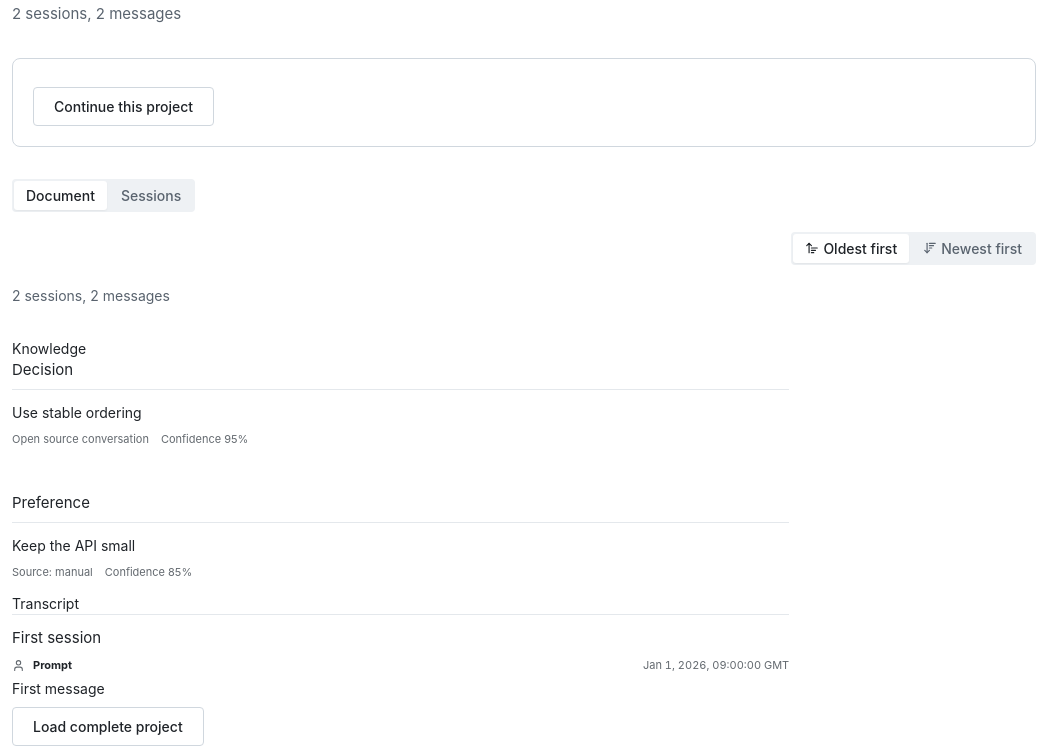
ProjectPage › discards an old document page after generated-content scope changes
(page scrolled)
Expected: the text "First message" is shown, [12,680,105,696]
Click the button "Load complete project". click: coordinates (108, 726)
box: [12,706,204,745]
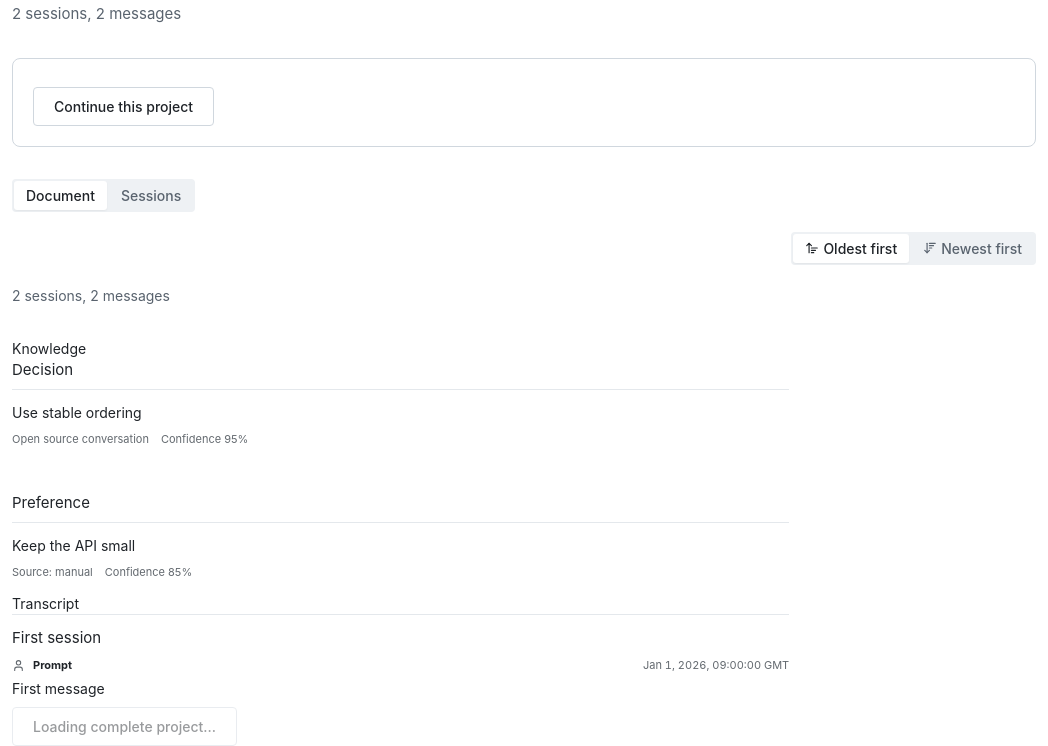
Click the tab "Sessions". click: coordinates (151, 195)
box: [109,180,193,210]
(page scrolled)
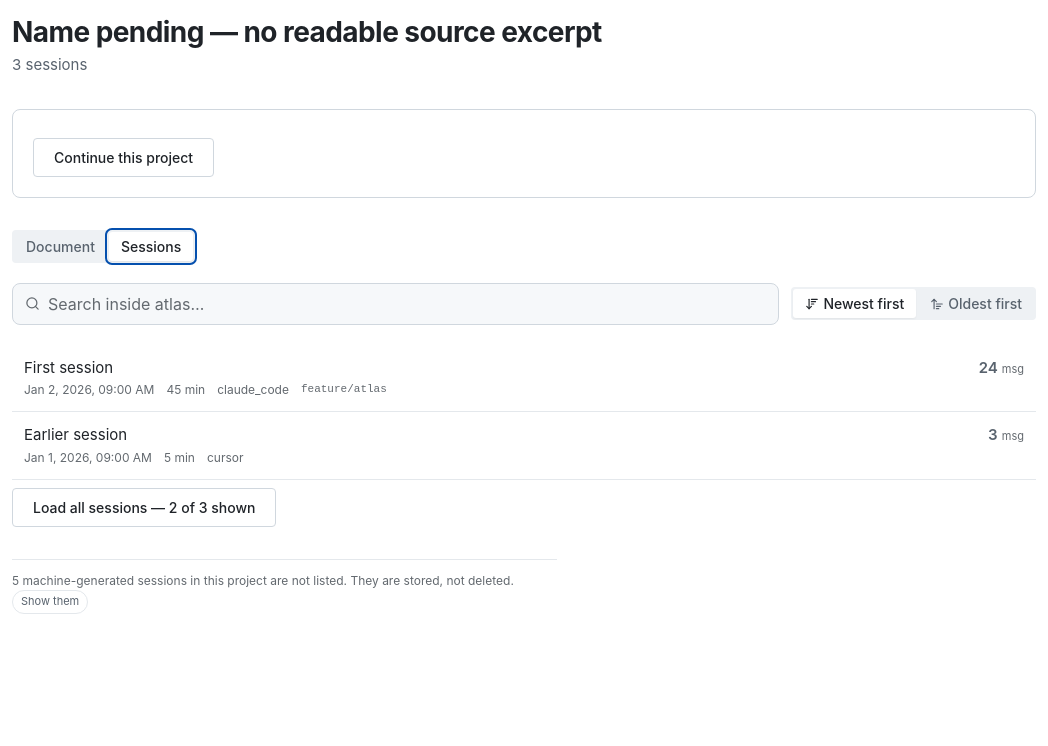
Click the button "Show them". click: coordinates (50, 602)
box: [12,590,88,614]
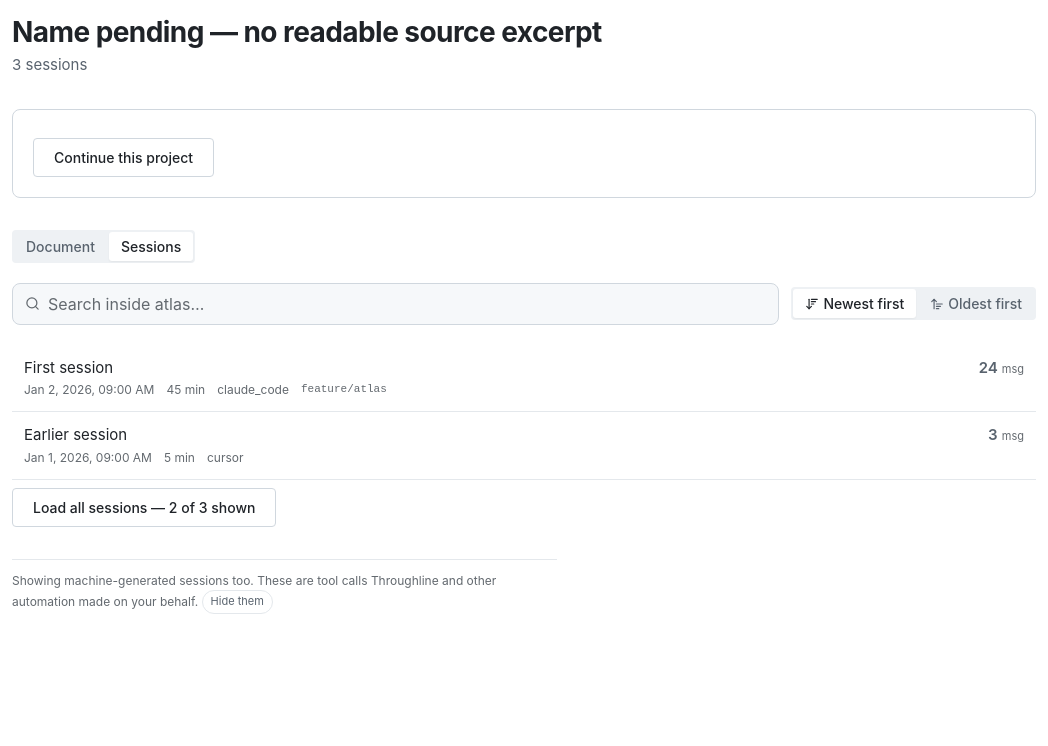
Click the tab "Document". click: coordinates (60, 246)
box: [14,232,107,260]
(page scrolled)
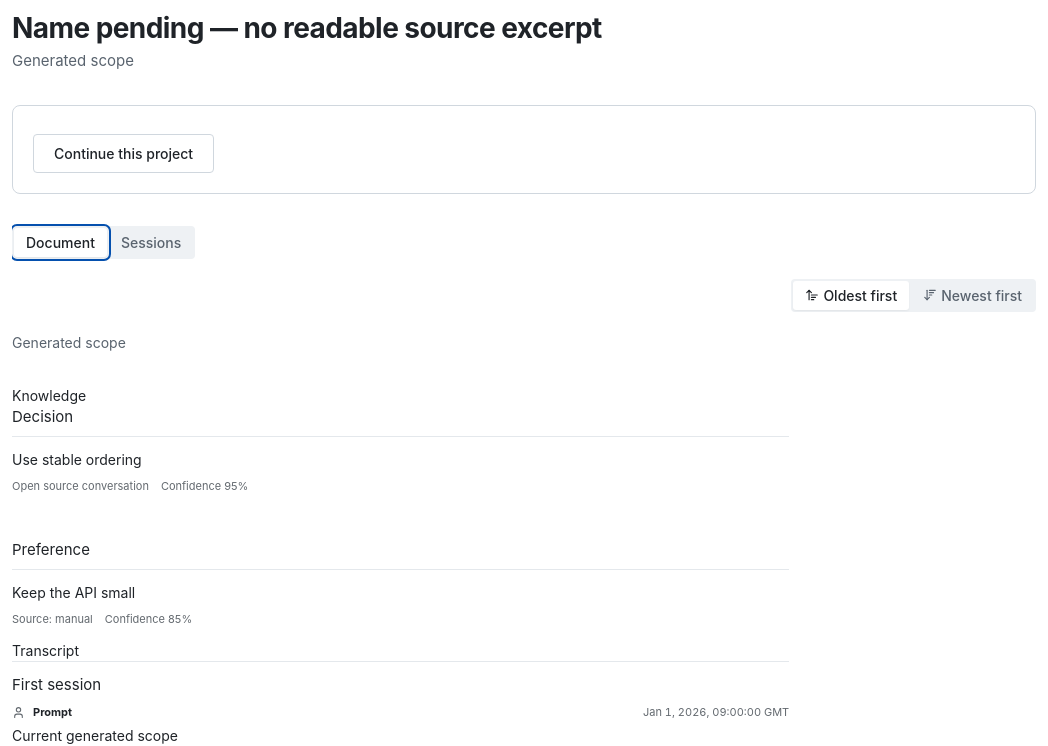
Now the text "Current generated scope" is shown, box [12,726,178,744]
